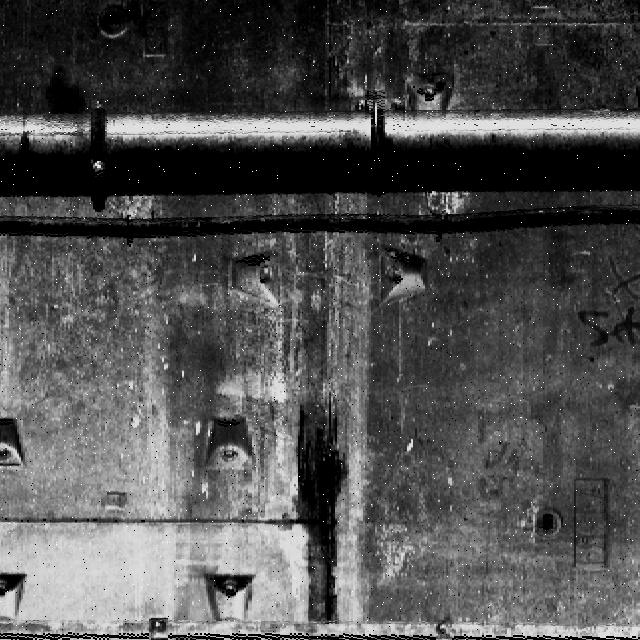leakage: (269, 380, 351, 640), (38, 65, 93, 125)
